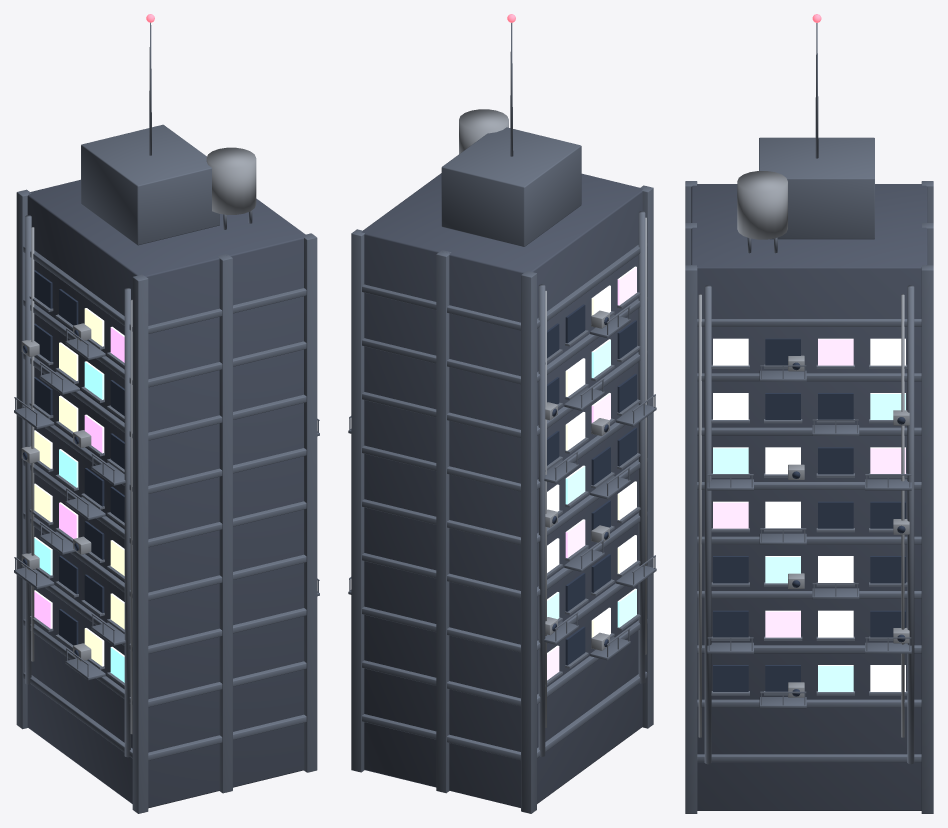
Rendered from neo_tokyo_tower.glb.
3 renders of one model, left to right at view 1: azimuth 30°, elevation 25°; view 2: azimuth 150°, elevation 25°; view 3: azimuth 270°, elevation 25°, orthographic. The views are drawn at different scales.
Visible parts, largest first — view 1: TowerCore, Penthouse, Pier_-5.3_-6.3, Pier_5.3_-6.3, Pier_0.0_-6.3, Pier_-5.3_6.3, PipeMain_-1_-5.4, WaterTank, PipeMain_-1_5.4, FloorSlab_1, FloorSlab_9, FloorSlab_5 (+14 smaller); view 2: TowerCore, Penthouse, Pier_-5.3_6.3, Pier_0.0_6.3, Pier_5.3_6.3, Pier_-5.3_-6.3, PipeMain_-1_5.4, PipeMain_-1_-5.4, FloorSlab_1, FloorSlab_9, FloorSlab_8, FloorSlab_2 (+25 smaller); view 3: TowerCore, Penthouse, Pier_5.3_6.3, Pier_5.3_-6.3, PipeMain_1_-5.4, PipeMain_1_5.4, WaterTank, FloorSlab_1, PipeSub_1_-5.4, FloorSlab_9, PipeSub_1_5.4, FloorSlab_2 (+43 smaller).
Part boxes in pixels (x1,y1,x2,y2): TowerCore: (27, 179, 306, 808); Penthouse: (81, 124, 219, 245); Pier_-5.3_-6.3: (132, 274, 148, 813); Pier_5.3_-6.3: (303, 233, 317, 772); Pier_0.0_-6.3: (218, 254, 232, 793); Pier_-5.3_6.3: (16, 189, 31, 729); PipeMain_-1_-5.4: (124, 288, 130, 757); WaterTank: (206, 147, 256, 214); PipeMain_-1_5.4: (25, 215, 31, 684); FloorSlab_1: (23, 672, 306, 760); FloorSlab_9: (23, 246, 306, 333); FloorSlab_5: (23, 460, 306, 547); TowerCore: (361, 173, 643, 807); Penthouse: (441, 127, 581, 246); Pier_-5.3_6.3: (521, 271, 536, 813); Pier_0.0_6.3: (436, 250, 451, 793); Pier_5.3_6.3: (351, 229, 364, 772); Pier_-5.3_-6.3: (640, 185, 653, 728); PipeMain_-1_5.4: (538, 284, 545, 756); PipeMain_-1_-5.4: (638, 211, 645, 683); FloorSlab_1: (362, 671, 647, 760); FloorSlab_9: (362, 243, 647, 330); FloorSlab_8: (362, 297, 647, 384); FloorSlab_2: (362, 619, 647, 706); TowerCore: (691, 184, 927, 810); Penthouse: (759, 137, 874, 239); Pier_5.3_6.3: (921, 265, 933, 813); Pier_5.3_-6.3: (685, 265, 697, 813); PipeMain_1_-5.4: (704, 285, 711, 764); PipeMain_1_5.4: (907, 285, 914, 764); WaterTank: (737, 171, 787, 239); FloorSlab_1: (697, 754, 921, 762); PipeSub_1_-5.4: (698, 294, 701, 737); FloorSlab_9: (697, 319, 921, 326); PipeSub_1_5.4: (901, 294, 904, 737); FloorSlab_2: (697, 699, 921, 707).
Size of the model in its own units: 12.94 by 44.04 by 13.25.
